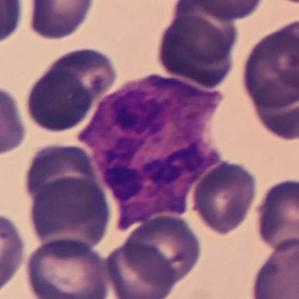Neutrophil: (76, 61, 232, 228)
RBC: (25, 174, 114, 255), (152, 12, 240, 90), (235, 12, 299, 116), (121, 212, 205, 286), (20, 139, 101, 210), (22, 235, 111, 299), (188, 158, 260, 236), (102, 239, 178, 299), (26, 71, 95, 134), (167, 1, 241, 59), (245, 67, 299, 143), (47, 46, 117, 103), (252, 174, 299, 252), (245, 235, 299, 298), (24, 0, 98, 42), (0, 208, 28, 296), (0, 83, 29, 157), (185, 0, 269, 23), (0, 0, 27, 49)
